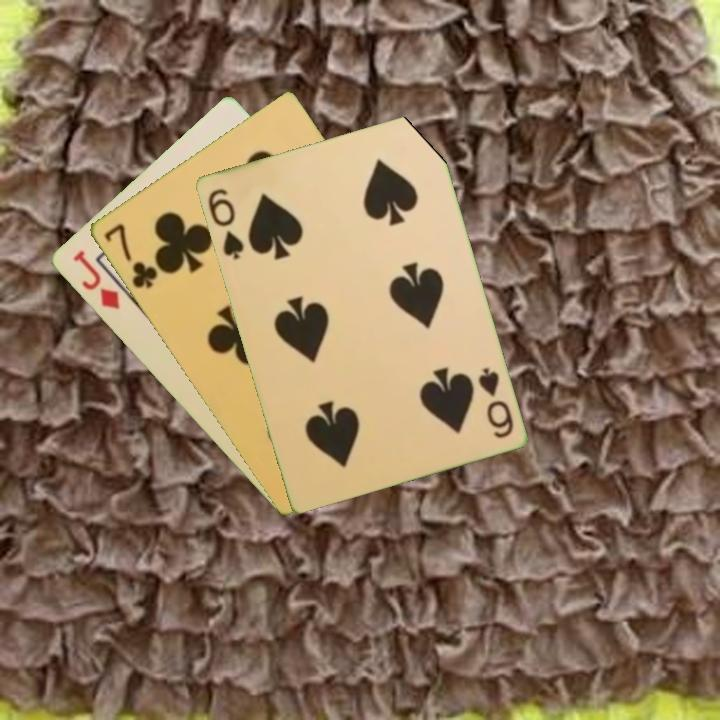6s: (204, 184, 247, 262), (474, 363, 516, 441)
7c: (99, 219, 160, 292)
Jd: (68, 247, 123, 313)
